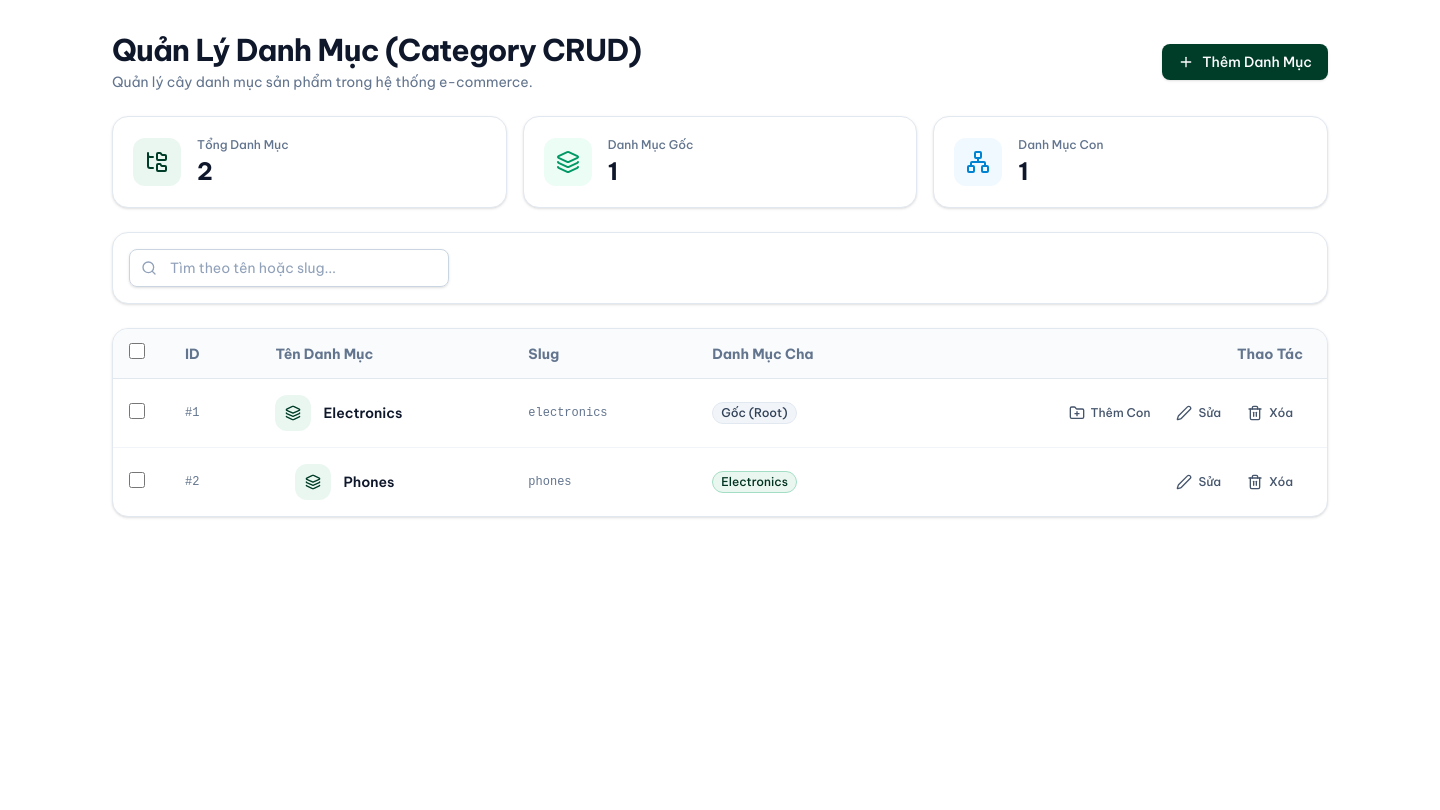
Test: CategoriesPage › deletes a category via the confirmation modal
This screenshot has width=1440, height=810.
Click the button titled "Xóa" in the row of "Gốc (Root)".
click(1270, 413)  # box [1237,399,1303,427]
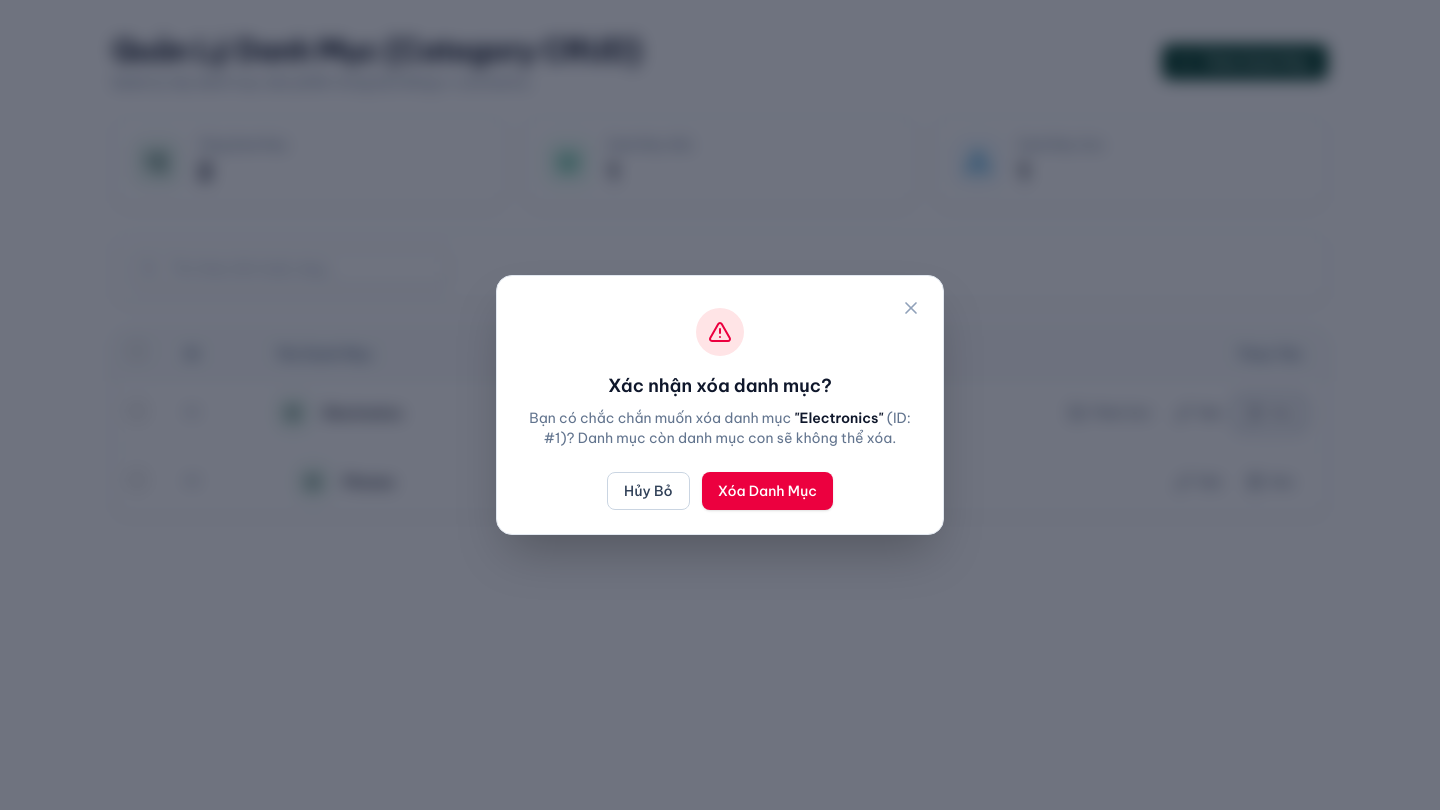
Click the button "Xóa Danh Mục".
click(767, 491)  # box [702,472,833,510]
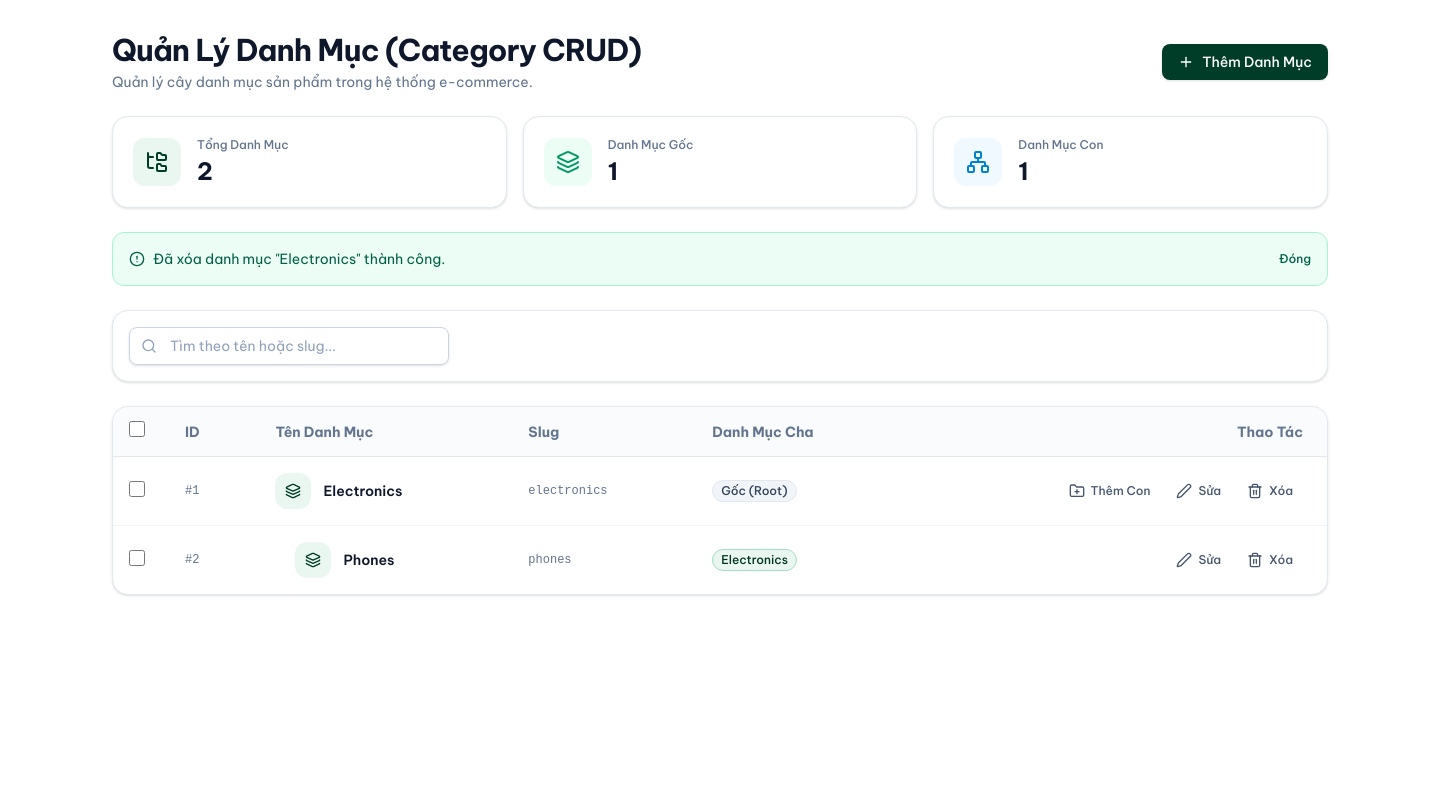
Result: the text "Đã xóa danh mục \"Electronics\" thành công." is shown at [153,249,445,269]
